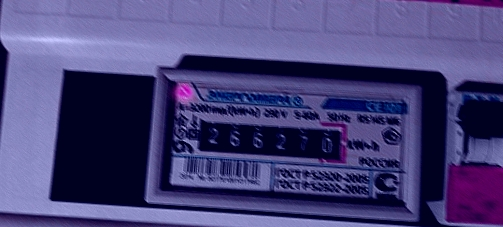0: (320, 133, 333, 151)
2: (205, 123, 220, 142), (274, 129, 286, 148)
6: (228, 126, 241, 145), (251, 128, 264, 147)
7: (297, 131, 309, 149)
screen: (187, 107, 353, 167)
